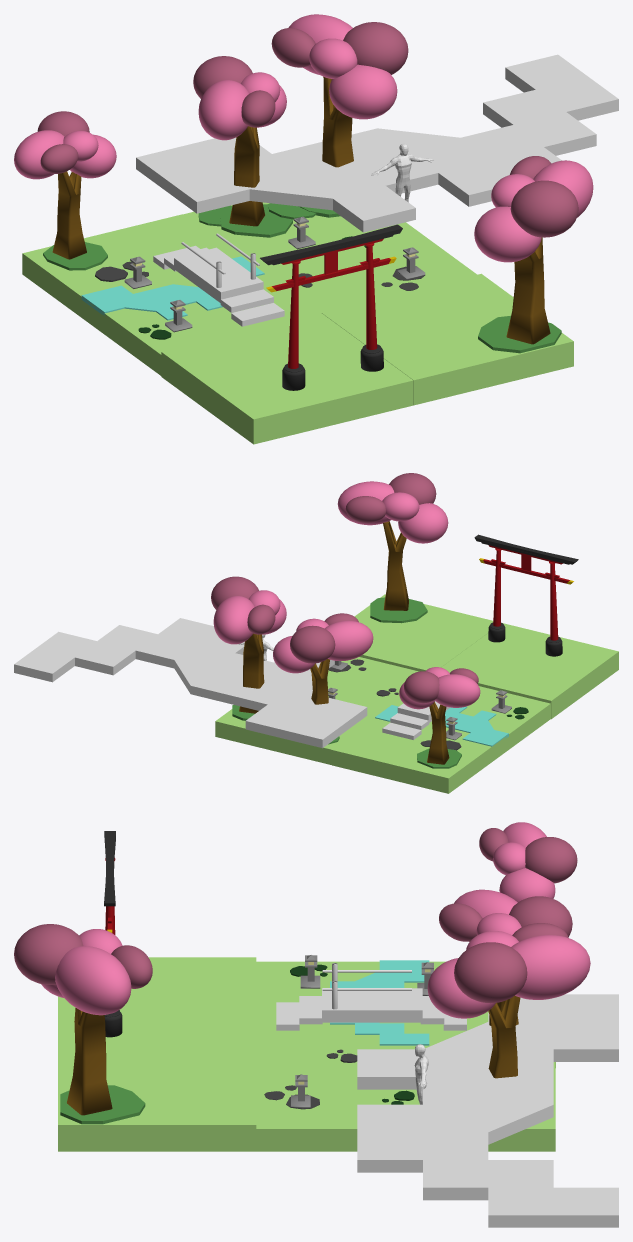
File: low poly zen.glb
The picture shows the model from 3 angles, top to bottom: view 1: azimuth 30°, elevation 25°; view 2: azimuth 150°, elevation 25°; view 3: azimuth 270°, elevation 25°; orthographic projection. The views are drawn at different scales.
Visible parts, largest first — view 1: base.001, base.003, base.006, base.005, base.002, Sphere.003, base.004, Cube, Sphere.005, Cube.038, Sphere.004, Sphere.006 (+27 smaller); view 2: base.001, base.005, base.003, base.006, base.002, base.004, Cube, Sphere.009, Sphere.010, Sphere.004, Sphere.013, Sphere.020 (+17 smaller); view 3: base.001, base.006, base.002, base.003, base.005, Sphere, Sphere.009, Sphere.006, Cube, Cube.038, base.004, Sphere.003 (+19 smaller).
Part boxes in pixels (box(x1,y1,x2,y2)): base.001: box(136, 54, 618, 232); base.003: box(161, 313, 413, 444); base.006: box(322, 273, 573, 405); base.005: box(22, 214, 317, 375); base.002: box(183, 202, 476, 313); Sphere.003: box(510, 180, 578, 237); base.004: box(81, 256, 264, 320); Cube: box(506, 237, 550, 344); Sphere.005: box(329, 64, 397, 119); Cube.038: box(174, 247, 263, 302); Sphere.004: box(474, 206, 541, 262); Sphere.006: box(343, 22, 408, 74); base.001: box(14, 618, 367, 748); base.005: box(331, 686, 550, 793); base.003: box(441, 623, 618, 719); base.006: box(354, 594, 493, 671); base.002: box(215, 657, 418, 764); base.004: box(375, 705, 508, 746); Cube: box(383, 521, 408, 610); Sphere.009: box(213, 596, 254, 644); Sphere.010: box(325, 620, 373, 660); Sphere.004: box(398, 503, 448, 543); Sphere.013: box(290, 625, 335, 663); Sphere.020: box(434, 674, 480, 707); base.001: box(357, 994, 618, 1227); base.006: box(58, 1041, 256, 1151); base.002: box(242, 1045, 555, 1151); base.003: box(58, 957, 256, 1040); base.005: box(256, 961, 555, 1067); Sphere: box(55, 946, 131, 1015); Sphere.009: box(511, 935, 590, 999); Sphere.006: box(454, 942, 527, 1003); Cube: box(67, 1008, 112, 1115); Cube.038: box(322, 988, 422, 1022); base.004: box(330, 960, 429, 1045); Sphere.003: box(14, 924, 83, 984).
Size of the model in its own units: 16.46 by 5.14 by 13.65.
